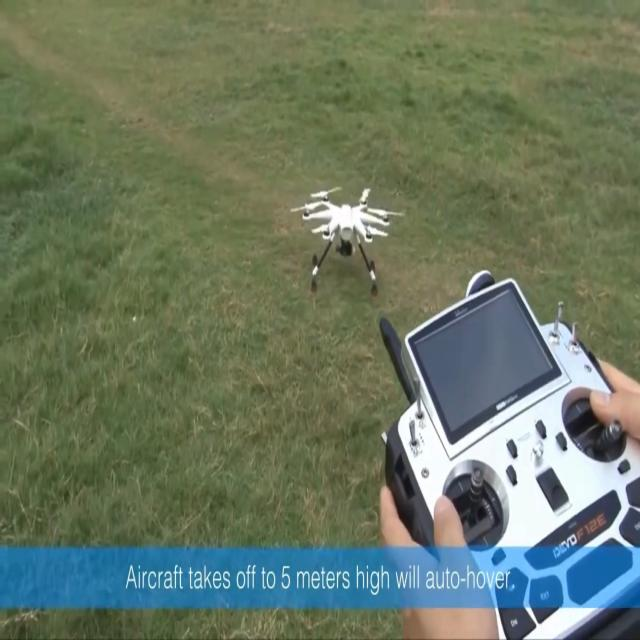drone: (290, 185, 405, 298)
